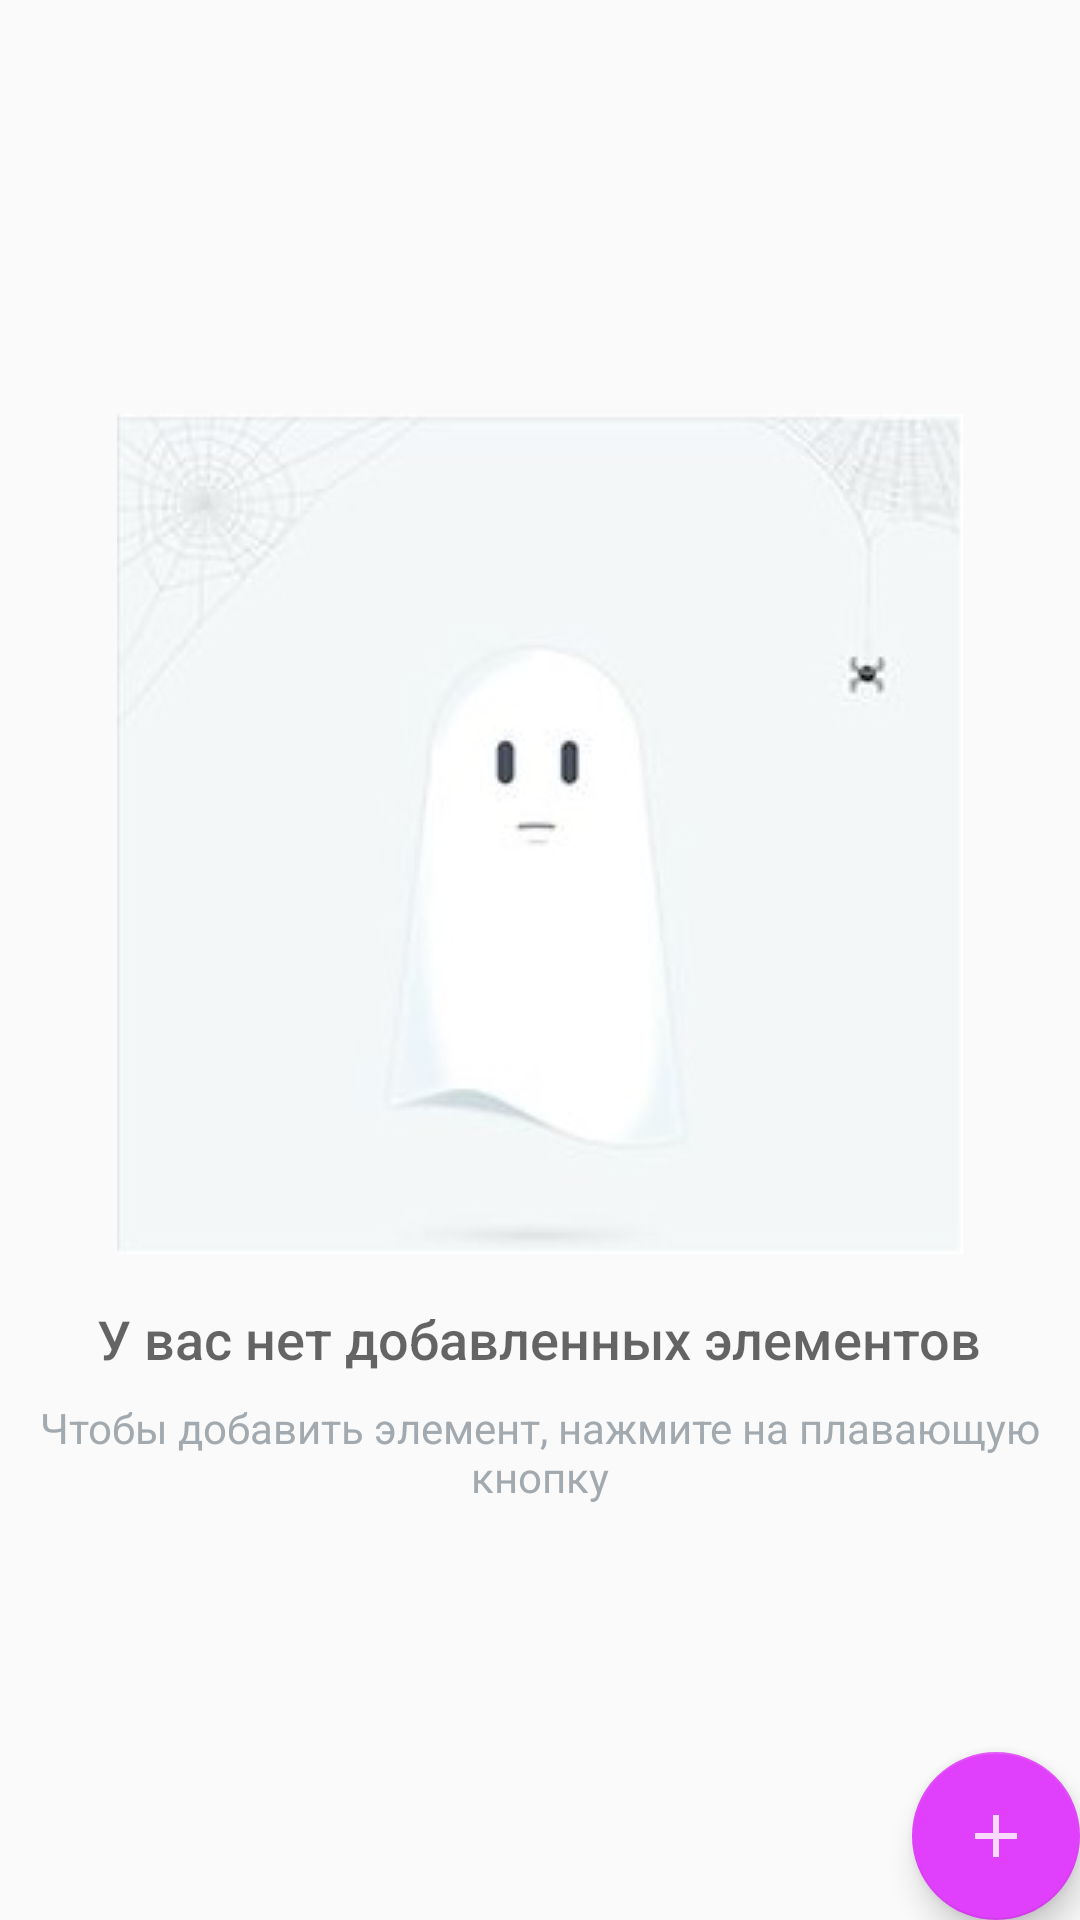

Named icons in this screenshot (1080 × 1920) and their centers, [x,y]:
plus: [996,1836]
